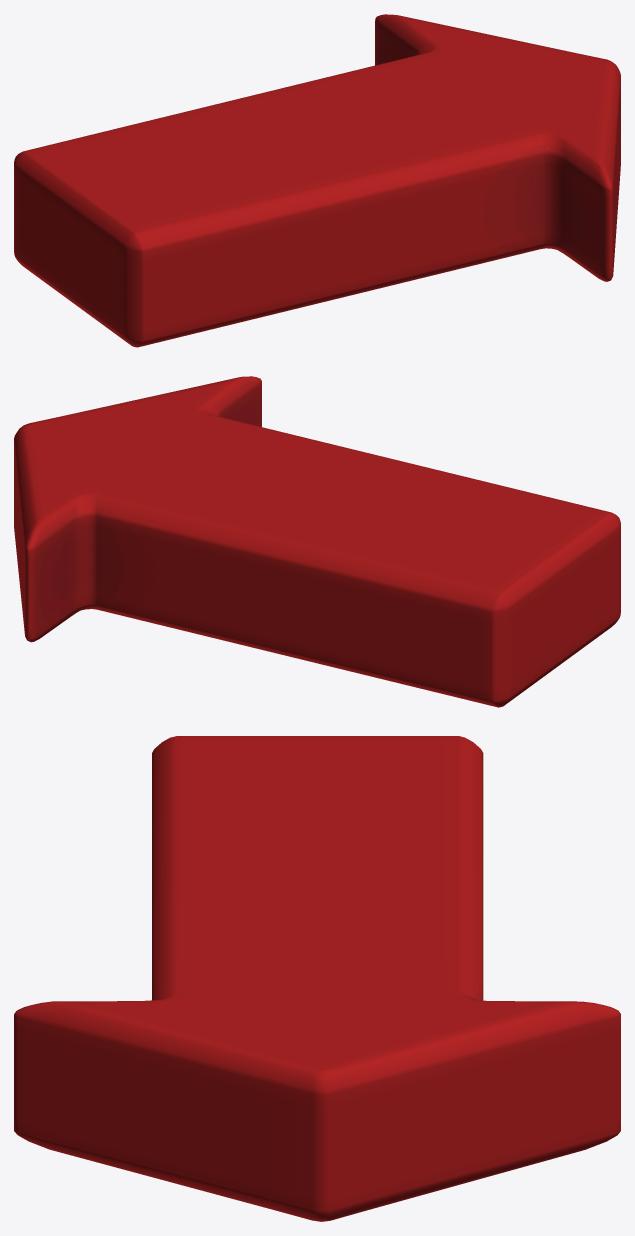
Rendered from Senza titolo.fbx.
3 views of the same model, one above another, from view 1: azimuth 30°, elevation 25°; view 2: azimuth 150°, elevation 25°; view 3: azimuth 270°, elevation 25° (orthographic). The views are drawn at different scales.
Visible parts, largest first — view 1: node_id41; view 2: node_id41; view 3: node_id41.
Part boxes in pixels (x1,y1,x2,y2): node_id41: [14, 14, 620, 347]; node_id41: [14, 376, 620, 707]; node_id41: [14, 736, 620, 1221].
Size of the model in its own units: 0.324 by 0.0649 by 0.2385.
Materials: 1 (1 with a texture image).
